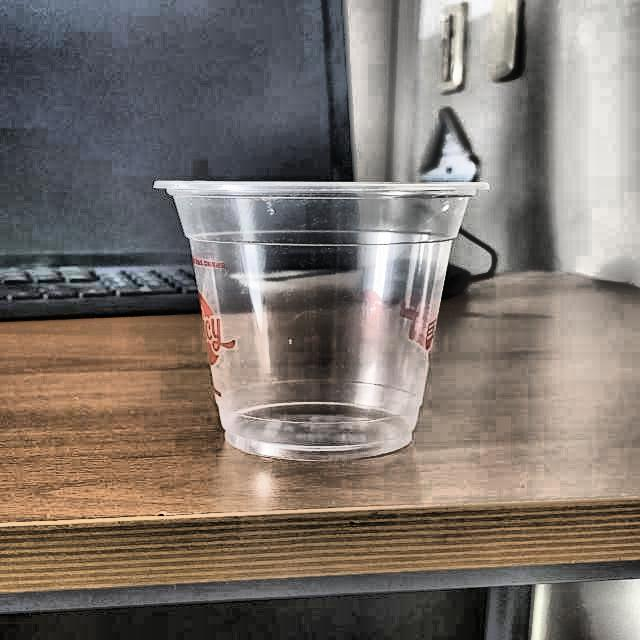plastic cup: (154, 176, 486, 467)
